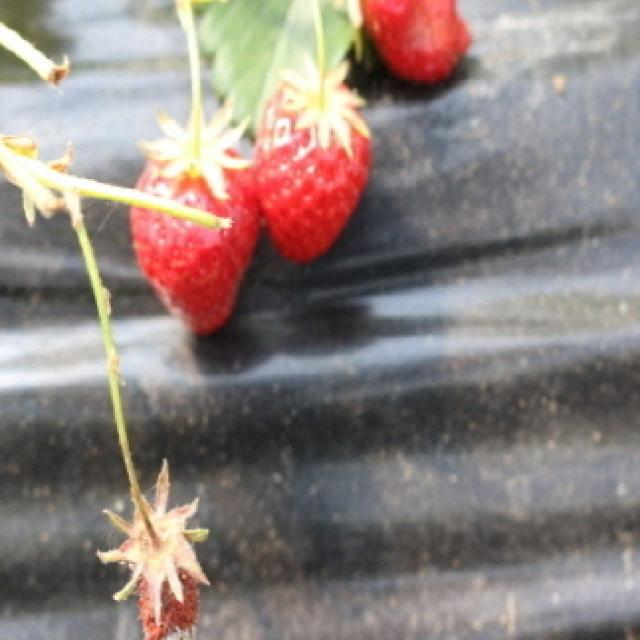Gray Mold: (94, 456, 212, 640)
